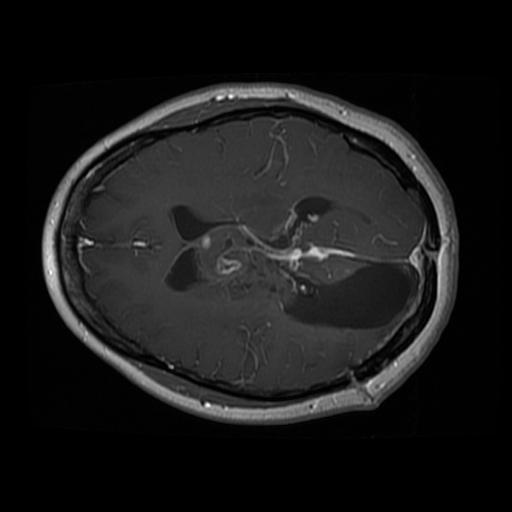glioma: (162, 208, 415, 331)
